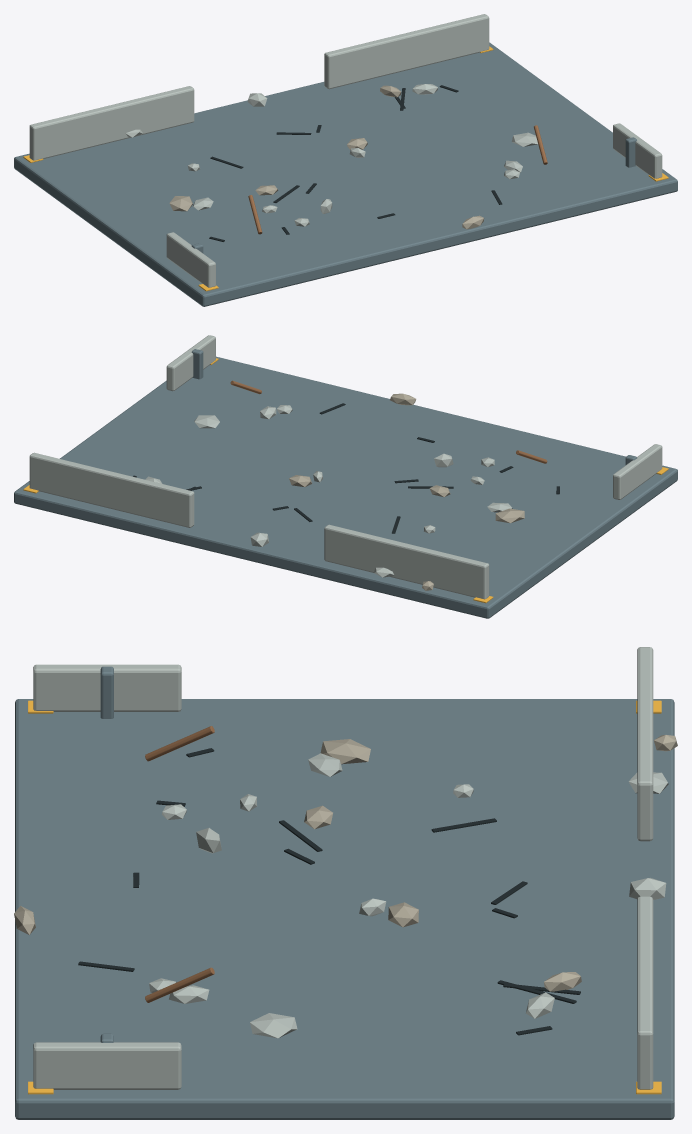
Rendered from personnel_barracks_d3.glb.
3 views of the same model, one above another, from view 1: azimuth 30°, elevation 25°; view 2: azimuth 150°, elevation 25°; view 3: azimuth 270°, elevation 25° (orthographic). The views are drawn at different scales.
Visible parts, largest first — view 1: Foundation.007, End bulkhead.027, End bulkhead.026, Side pressure panel.044, Side pressure panel.045; view 2: Foundation.007, End bulkhead.027, End bulkhead.026, Side pressure panel.044, Side pressure panel.045; view 3: Foundation.007, Side pressure panel.045, Side pressure panel.044, End bulkhead.026, End bulkhead.027, Bounded fractured debris.046, Bounded fractured debris.036, External armor rib.044.
Part boxes in pixels (bbox=[...]): Foundation.007: bbox=[14, 42, 677, 306]; End bulkhead.027: bbox=[324, 14, 489, 89]; End bulkhead.026: bbox=[29, 86, 194, 160]; Side pressure panel.044: bbox=[166, 232, 215, 287]; Side pressure panel.045: bbox=[613, 123, 662, 178]; Foundation.007: bbox=[14, 356, 677, 618]; End bulkhead.027: bbox=[29, 452, 194, 527]; End bulkhead.026: bbox=[324, 524, 489, 599]; Side pressure panel.044: bbox=[613, 444, 662, 499]; Side pressure panel.045: bbox=[166, 335, 215, 391]; Foundation.007: bbox=[15, 699, 674, 1119]; Side pressure panel.045: bbox=[33, 1042, 181, 1089]; Side pressure panel.044: bbox=[33, 664, 181, 711]; End bulkhead.026: bbox=[637, 647, 653, 841]; End bulkhead.027: bbox=[637, 896, 653, 1089]; Bounded fractured debris.046: bbox=[320, 739, 370, 764]; Bounded fractured debris.036: bbox=[250, 1013, 297, 1038]; External armor rib.044: bbox=[100, 666, 113, 718].
Size of the model in its own units: 13 by 1.22 by 9.06.
